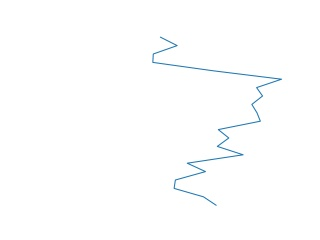floodPlain: (149, 35, 284, 209)
